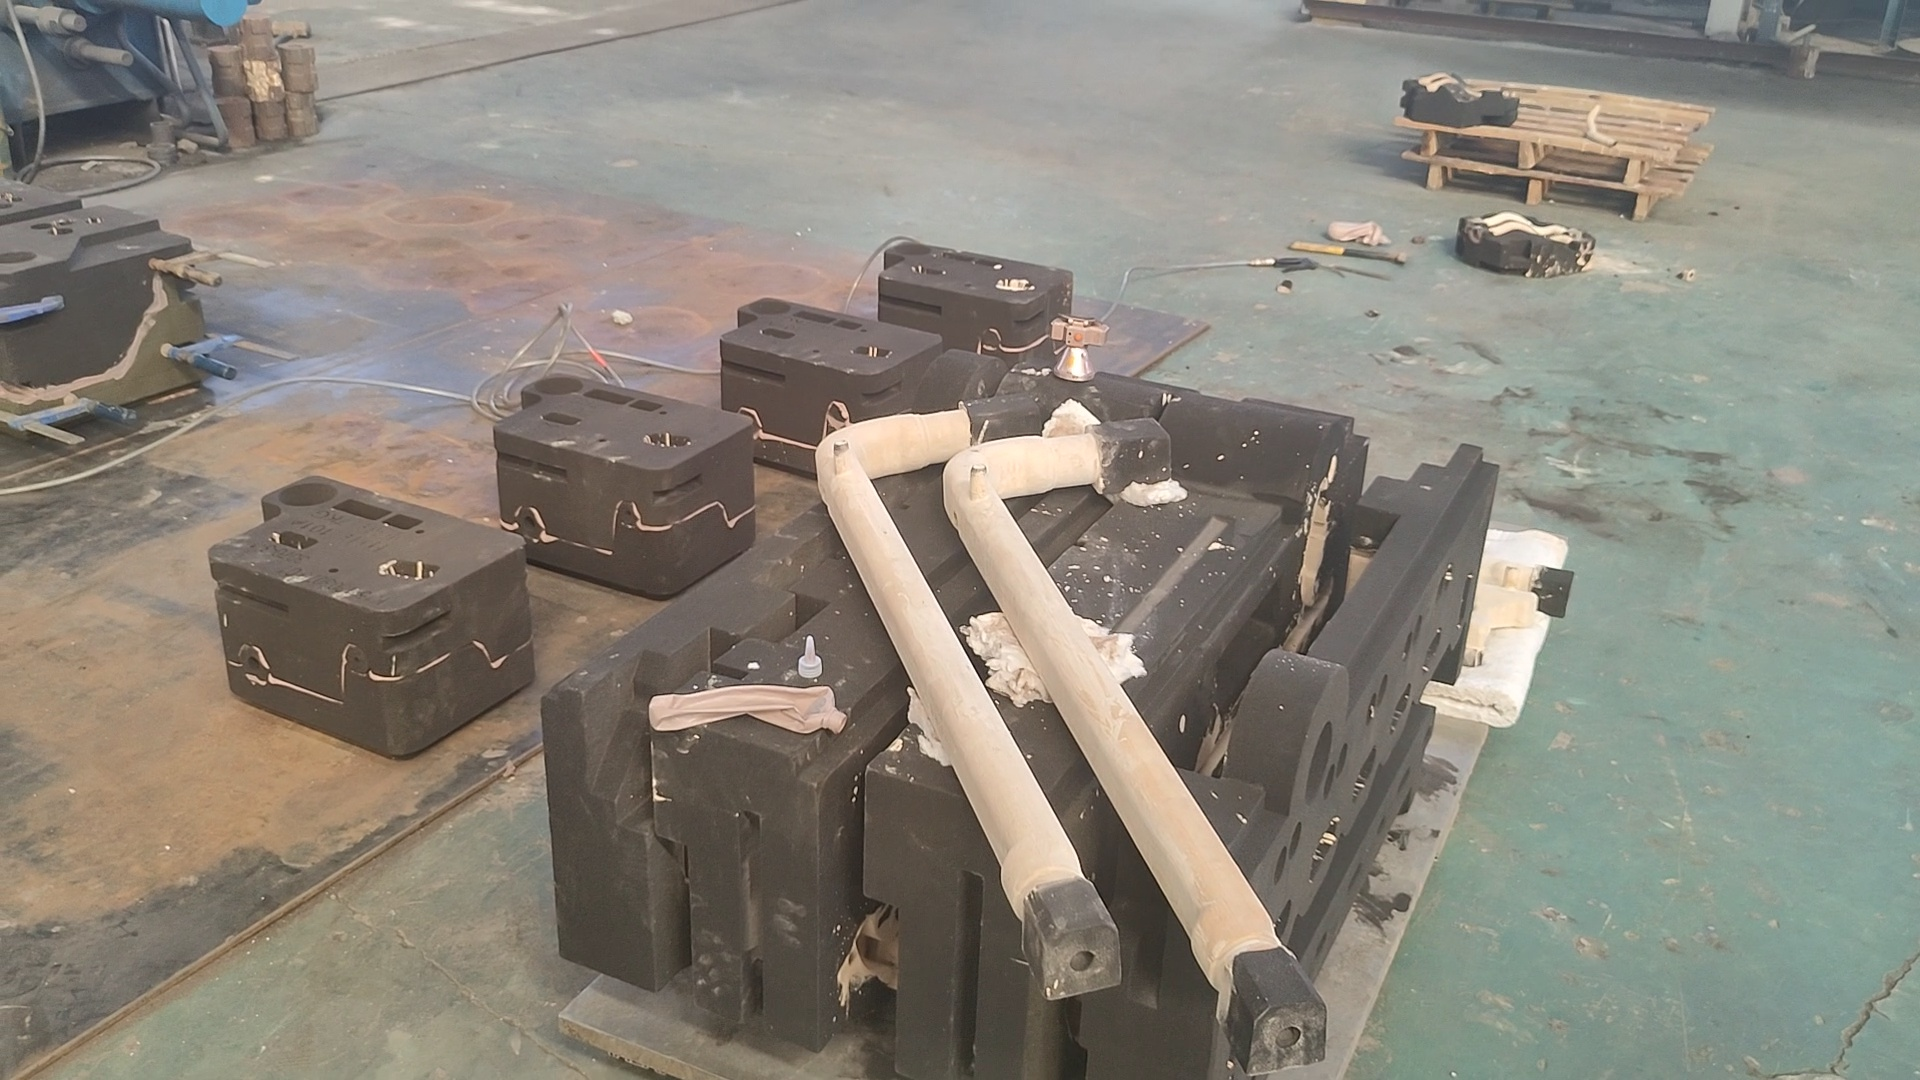pouring hole: (1305, 720, 1333, 804), (278, 483, 338, 506), (533, 376, 583, 394), (746, 299, 791, 315), (891, 243, 932, 256), (1, 251, 37, 264)
